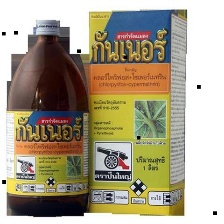carton: (86, 5, 191, 216)
insecticide: (1, 15, 92, 219)
